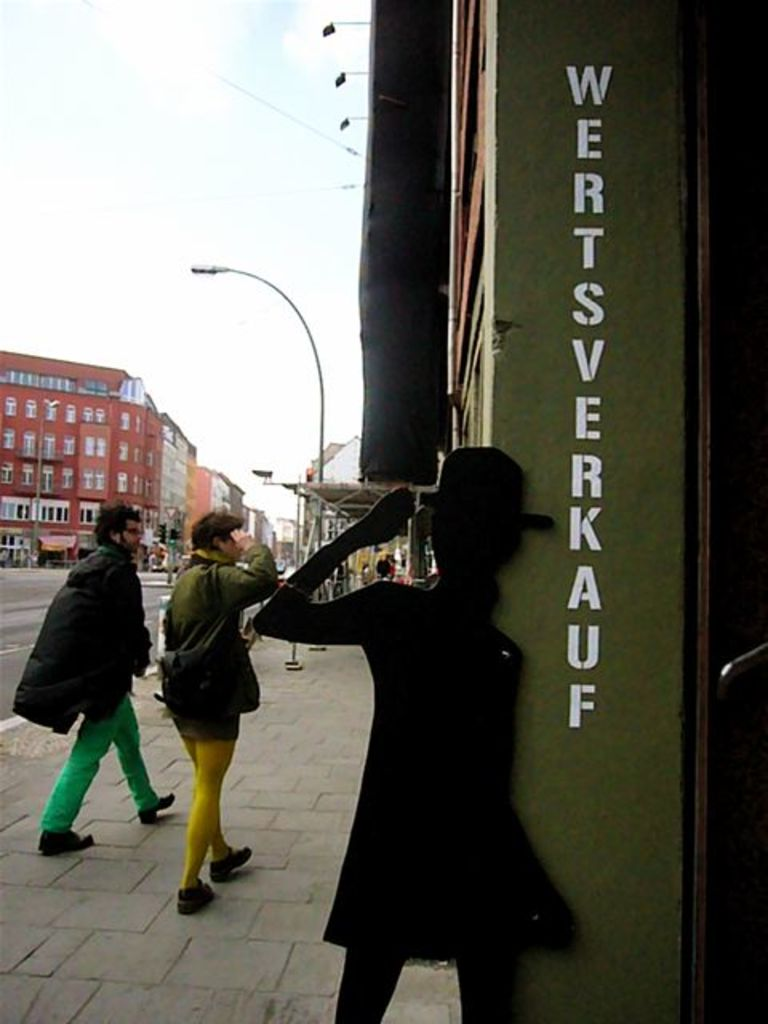Footwear: (37, 827, 96, 853), (210, 846, 254, 880), (179, 875, 214, 914), (139, 790, 174, 826)
